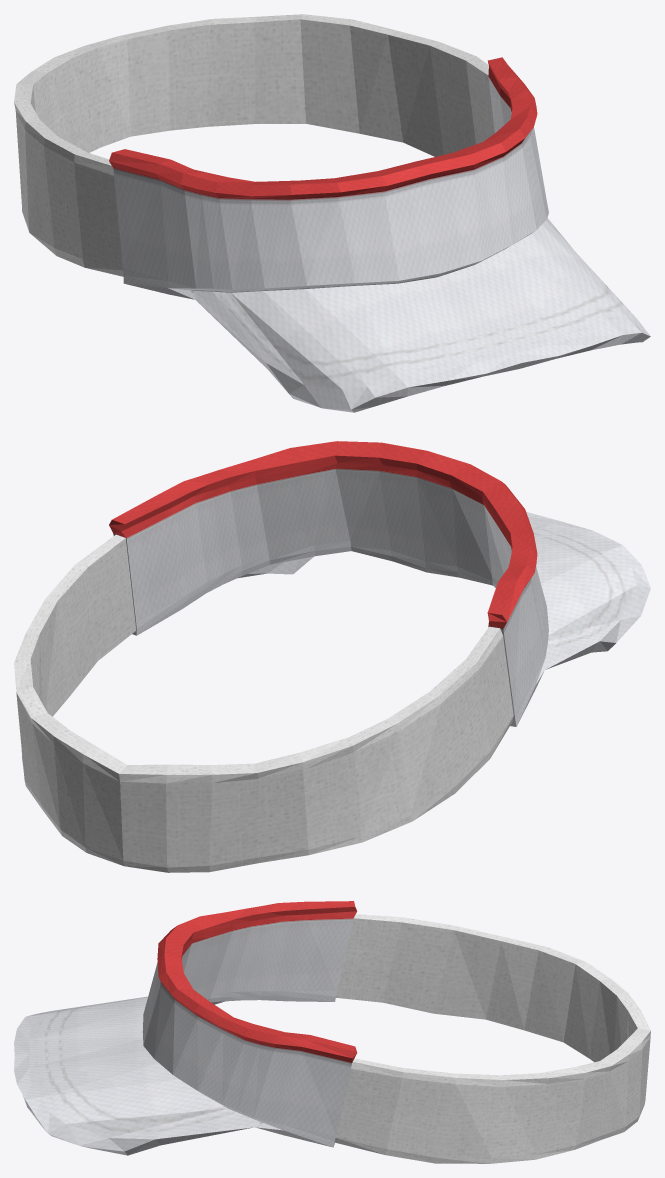
Rendered from mhw_punkduck_sun_visor_sports_visor.glb.
3 views of the same model, one above another, from view 1: azimuth 30°, elevation 25°; view 2: azimuth 150°, elevation 25°; view 3: azimuth 270°, elevation 25° (orthographic). The views are drawn at different scales.
Visible parts, largest first — view 1: mhw_punkduck_sun_visor_sports_visor; view 2: mhw_punkduck_sun_visor_sports_visor; view 3: mhw_punkduck_sun_visor_sports_visor.
Part boxes in pixels (x1,y1,x2,y2): mhw_punkduck_sun_visor_sports_visor: (14, 14, 650, 412); mhw_punkduck_sun_visor_sports_visor: (14, 441, 650, 872); mhw_punkduck_sun_visor_sports_visor: (14, 901, 650, 1163).
Bounding box in the file's own units: 0.1661 × 0.0751 × 0.2851.
Materials: 1 (1 with a texture image).
